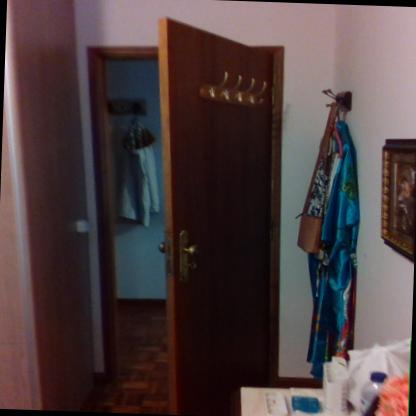semi: (64, 10, 302, 416)
